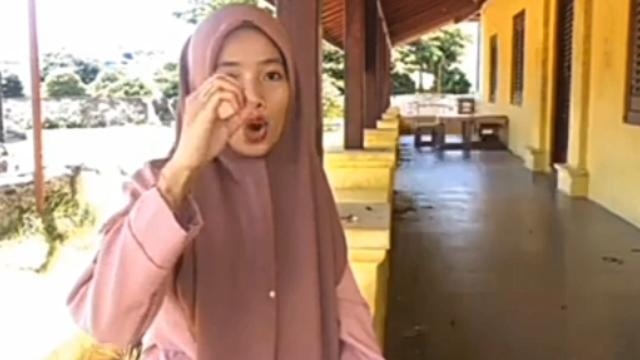O: (182, 72, 250, 170)
